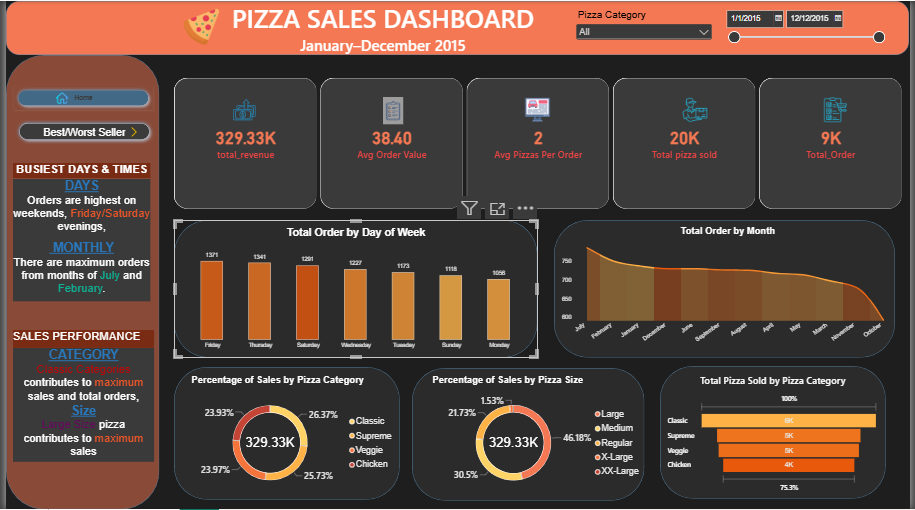

This screenshot's page, from the dashboard's own definition file:
{"tool":"powerbi","page":{"name":"Home","canvas":[1920,1080],"ordinal":0},"visuals":[{"type":"shape","box":[0,114,326,966],"z":0},{"type":"cardVisual","fields":{"Data":["pizza_sales.total_revenue","pizza_sales.Avg Order Value","pizza_sales.Avg Pizzas Per Order","pizza_sales.Total pizza sold","pizza_sales.Total_Order"]},"box":[357.2,163.7,1547.7,278.5],"z":1000},{"type":"shape","box":[0,0,1919.8,114.8],"z":2000},{"type":"textbox","box":[0,0,1603,114.8],"z":3000},{"type":"image","box":[357.2,14.9,116,80],"z":4000},{"type":"image","box":[456,204,104,54],"z":5000},{"type":"image","box":[1696,204,134,54],"z":6000},{"type":"image","box":[1064,204,134,54],"z":7000},{"type":"image","box":[1392,204,144,54],"z":8000},{"type":"shape","box":[357.5,465,772.5,292.5],"z":9000},{"type":"shape","box":[1165,465,725,292.5],"z":10000},{"type":"shape","box":[358,778,480,282],"z":11000},{"type":"shape","box":[864,780,494,282],"z":12000},{"type":"shape","box":[1390.4,776,480,282],"z":13000},{"type":"clusteredColumnChart","title":"Total Order by Day of Week","fields":{"Category":["pizza_sales.Weekday Name"],"Y":["pizza_sales.Total_Order"]},"box":[357.2,465.6,773.9,293.4],"z":14000},{"type":"areaChart","title":"Total Order by Month","fields":{"Category":["pizza_sales.Month Name"],"Y":["pizza_sales.Total_Order"]},"box":[1165,463.5,739.8,293.4],"z":15000},{"type":"donutChart","title":"Percentage of Sales by Pizza Category","fields":{"Category":["pizza_sales.pizza_category"],"Y":["pizza_sales.total_revenue"]},"box":[378.4,780.2,466,282],"z":16000},{"type":"donutChart","title":"Percentage of Sales by Pizza Size","fields":{"Category":["pizza_sales.pizza_size"],"Y":["pizza_sales.total_revenue"]},"box":[890.8,780.2,480,282],"z":17000},{"type":"funnel","title":"Total Pizza Sold by Pizza Category","fields":{"Category":["pizza_sales.pizza_category"],"Y":["pizza_sales.Total pizza sold"]},"box":[1390.4,778.1,480,282],"z":18000},{"type":"textbox","box":[15,345,292,32],"z":19000},{"type":"textbox","box":[15,377.5,292,260],"z":20000},{"type":"textbox","box":[15,700,300,38],"z":21000},{"type":"textbox","box":[15,737.5,300,242],"z":22000},{"type":"slicer","fields":{"Values":["pizza_sales.pizza_category"]},"box":[1208,18,298,96],"z":23000},{"type":"slicer","fields":{"Values":["pizza_sales.order_date"]},"box":[1525,15,347.5,100],"z":24000},{"type":"pageNavigator","box":[17,180.7,295.5,51],"z":25000},{"type":"pageNavigator","box":[19.1,250.9,295.5,53.1],"z":26000},{"type":"image","box":[231.7,267.9,80.8,21.3],"z":27000},{"type":"image","box":[802.5,205,42.5,57.5],"z":28000},{"type":"image","box":[106.3,185,25.5,42.5],"z":29000}]}

Visuals, with their boxes in screenshot pixels (x1, y1, x2, y2), scaled from the page's 1920x1080 canvas onto the 915x510 screenshot:
shape: rect(0, 54, 155, 509)
cardVisual - pizza_sales.total_revenue x pizza_sales.Avg Order Value: rect(170, 77, 908, 209)
shape: rect(0, 0, 914, 54)
textbox: rect(0, 0, 764, 54)
image: rect(170, 7, 226, 45)
image: rect(217, 96, 267, 122)
image: rect(808, 96, 872, 122)
image: rect(507, 96, 571, 122)
image: rect(663, 96, 732, 122)
shape: rect(170, 220, 539, 358)
shape: rect(555, 220, 901, 358)
shape: rect(171, 367, 399, 501)
shape: rect(412, 368, 647, 502)
shape: rect(663, 366, 891, 500)
"Total Order by Day of Week" clusteredColumnChart: rect(170, 220, 539, 358)
"Total Order by Month" areaChart: rect(555, 219, 908, 357)
"Percentage of Sales by Pizza Category" donutChart: rect(180, 368, 402, 502)
"Percentage of Sales by Pizza Size" donutChart: rect(425, 368, 653, 502)
"Total Pizza Sold by Pizza Category" funnel: rect(663, 367, 891, 501)
textbox: rect(7, 163, 146, 178)
textbox: rect(7, 178, 146, 301)
textbox: rect(7, 331, 150, 348)
textbox: rect(7, 348, 150, 463)
slicer - pizza_sales.pizza_category: rect(576, 8, 718, 54)
slicer - pizza_sales.order_date: rect(727, 7, 892, 54)
pageNavigator: rect(8, 85, 149, 109)
pageNavigator: rect(9, 118, 150, 144)
image: rect(110, 127, 149, 137)
image: rect(382, 97, 403, 124)
image: rect(51, 87, 63, 107)
